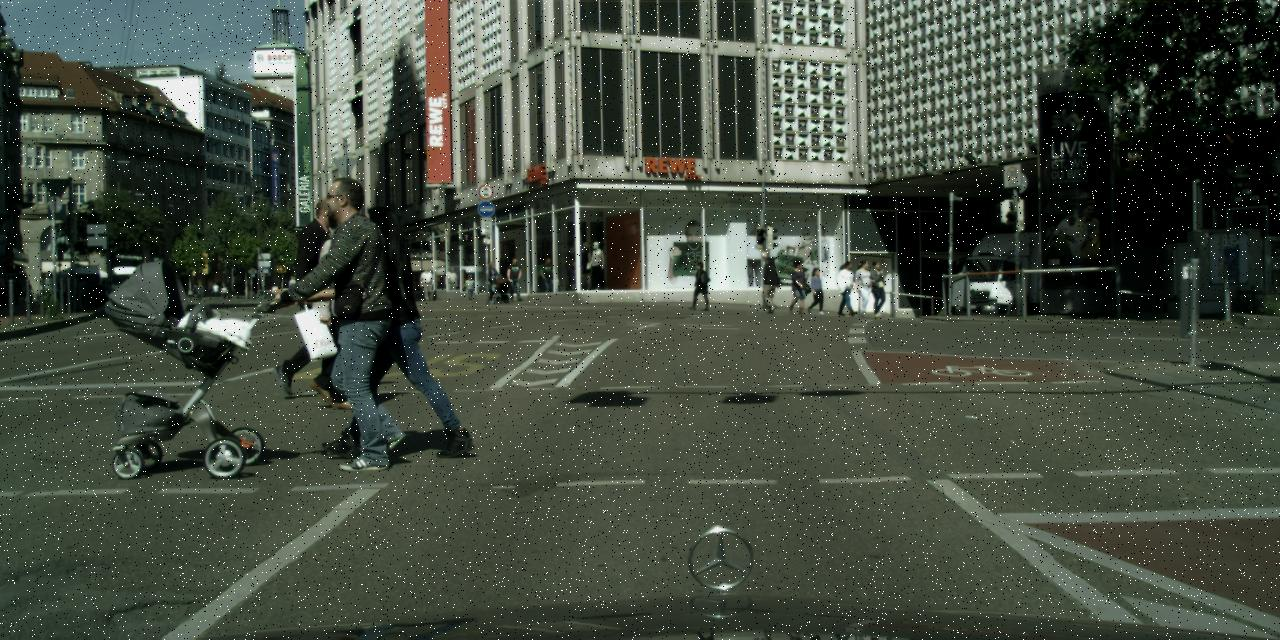ped: (306, 178, 422, 462), (340, 206, 441, 453), (277, 196, 359, 396), (851, 258, 874, 316), (865, 260, 887, 316), (837, 260, 859, 315), (786, 260, 808, 312), (758, 256, 779, 310), (689, 260, 709, 310), (806, 267, 824, 312), (506, 258, 523, 300), (483, 262, 499, 300), (420, 267, 432, 300), (464, 274, 476, 301), (188, 282, 205, 300), (288, 276, 296, 296), (212, 282, 217, 296), (222, 284, 226, 298)
